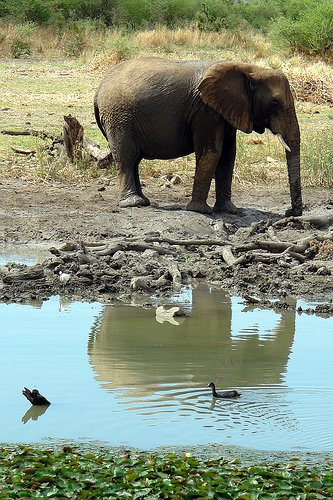elephant: (86, 39, 313, 233)
